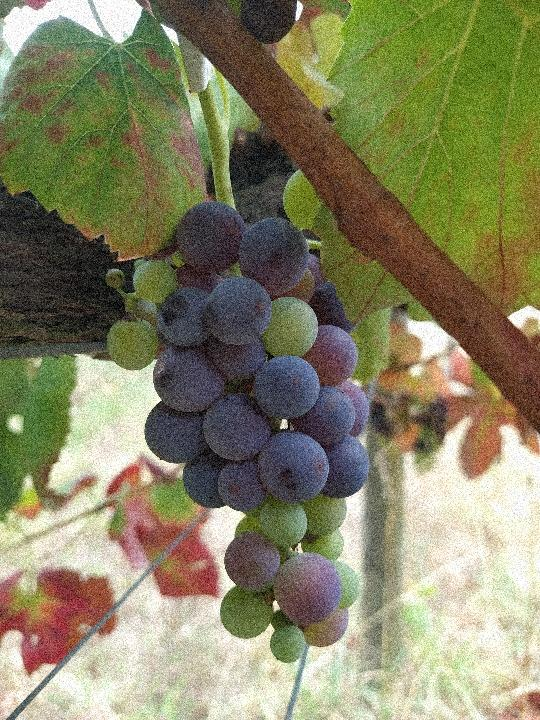grape: (102, 199, 374, 666)
